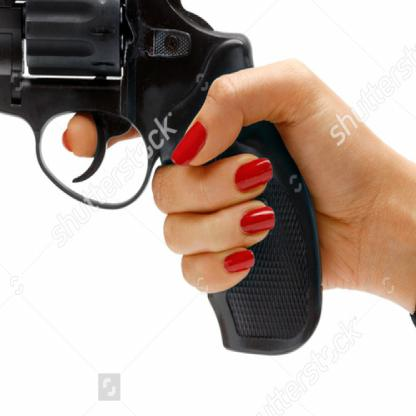gun: (0, 0, 324, 354)
